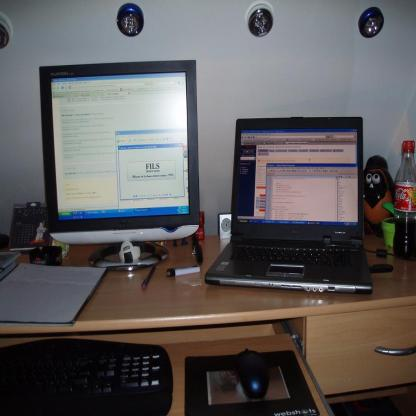board: (208, 120, 374, 301), (394, 140, 416, 258)
